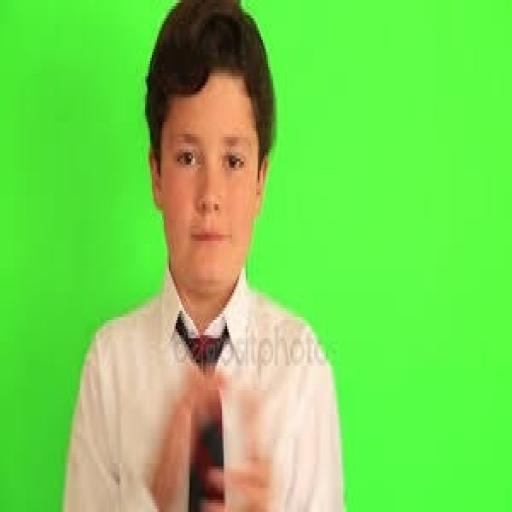clapping: (60, 0, 344, 509)
